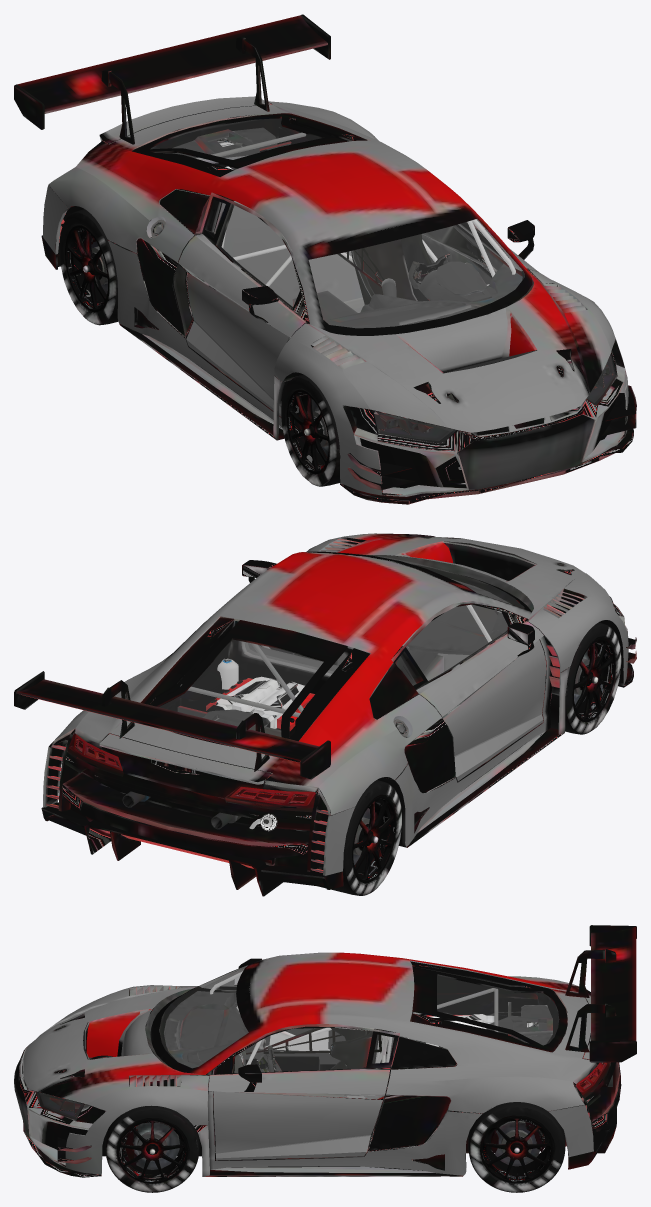
File: audi-r8-lms-gt3-distance.glb
The picture shows the model from 3 angles, top to bottom: view 1: azimuth 30°, elevation 25°; view 2: azimuth 150°, elevation 25°; view 3: azimuth 270°, elevation 25°; orthographic projection. The views are drawn at different scales.
Visible parts, largest first — view 1: body, wheel_rear_right, wheel_front_right; view 2: body, wheel_rear_right, wheel_front_right; view 3: body, wheel_rear_left, wheel_front_left.
Part boxes in pixels (x1,y1,x2,y2): body: (14,14,636,504); wheel_rear_right: (59,209,118,325); wheel_front_right: (281,374,340,486); body: (14,533,636,896); wheel_rear_right: (318,780,401,895); wheel_front_right: (550,622,621,734); body: (14,925,636,1177); wheel_rear_left: (468,1102,565,1192); wheel_front_left: (105,1105,199,1192).
Bounding box in the file's own units: 2.05 × 1.29 × 4.57.
Materials: 5 (5 with a texture image).
